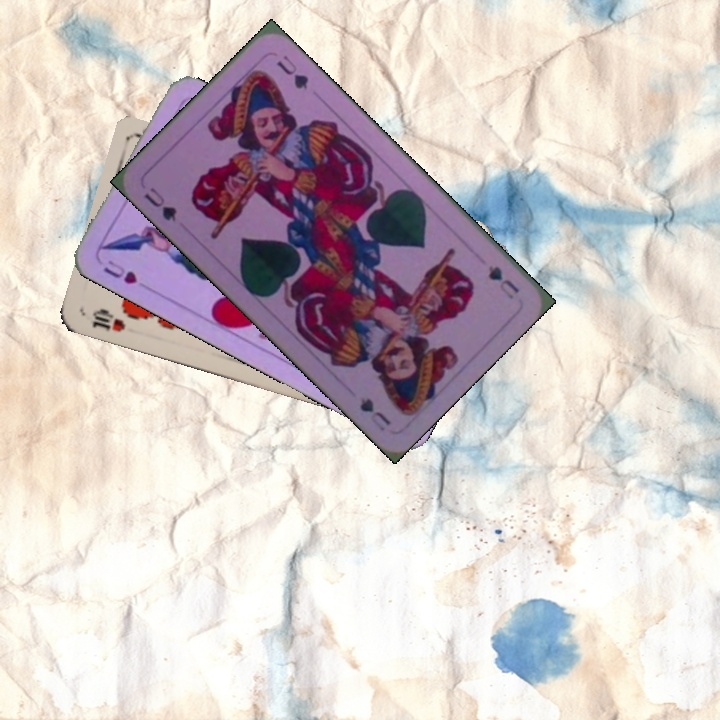GU: (140, 183, 180, 225), (484, 261, 522, 302)
H10: (88, 306, 128, 335)
HU: (99, 256, 140, 287)
